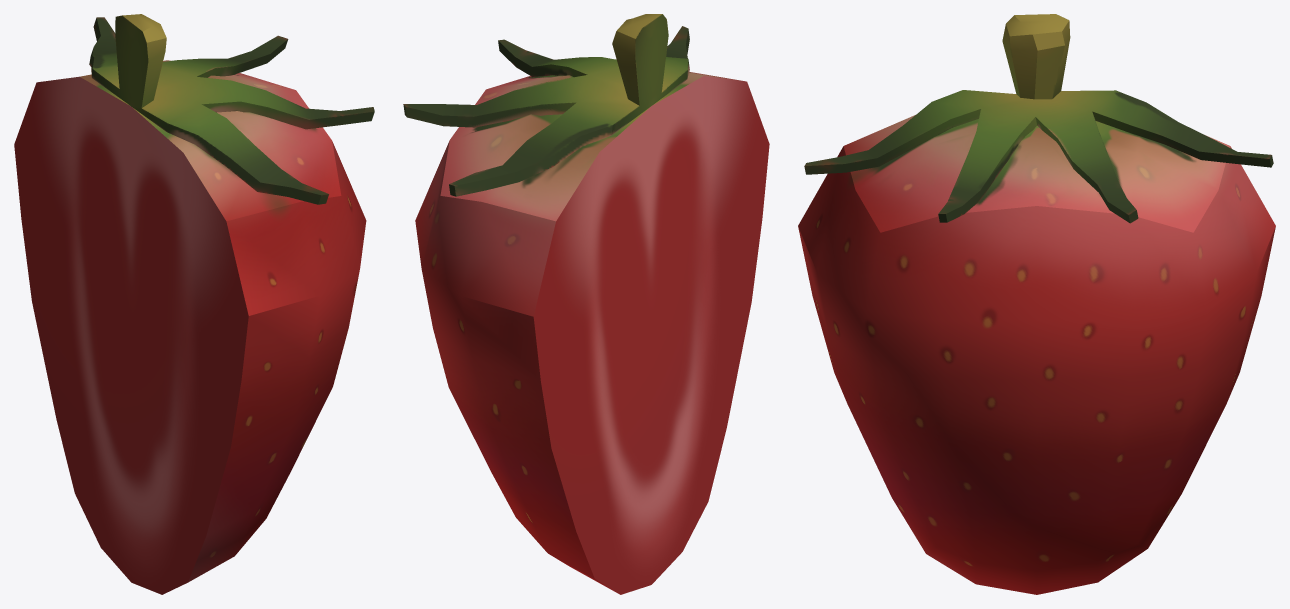
Rendered from Ingrediente_StrawberryMitad_R.fbx.
The picture shows the model from 3 angles, left to right: view 1: azimuth 30°, elevation 25°; view 2: azimuth 150°, elevation 25°; view 3: azimuth 270°, elevation 25°; orthographic projection.
Visible parts, largest first — view 1: m_StrawberryMitad_01; view 2: m_StrawberryMitad_01; view 3: m_StrawberryMitad_01.
Boxes of the visible parts, bbox=[...] form: m_StrawberryMitad_01: bbox=[14, 14, 374, 594]; m_StrawberryMitad_01: bbox=[403, 14, 769, 594]; m_StrawberryMitad_01: bbox=[798, 14, 1275, 594].
Bounding box in the file's own units: 8.49 × 22.24 × 16.88.
